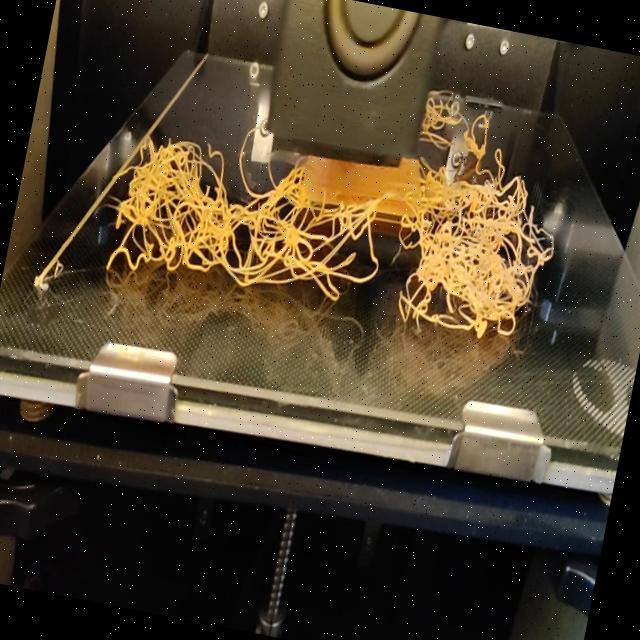spaghetti: (95, 109, 572, 358), (408, 78, 541, 188)
